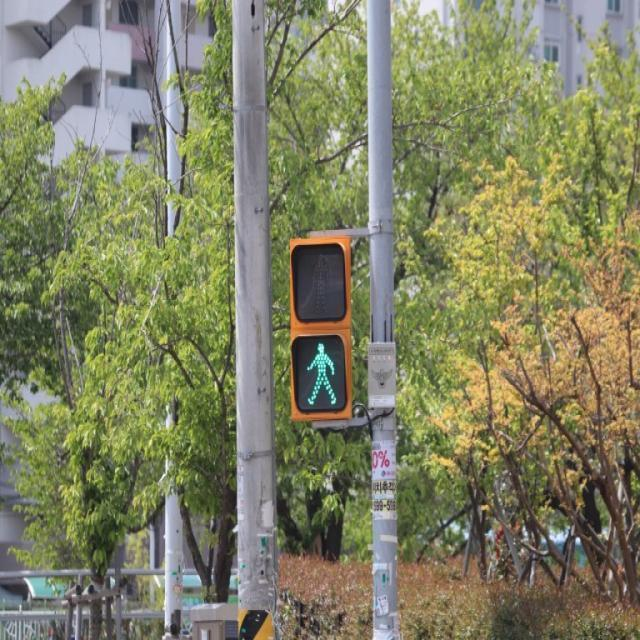green_light: (296, 339, 348, 411)
